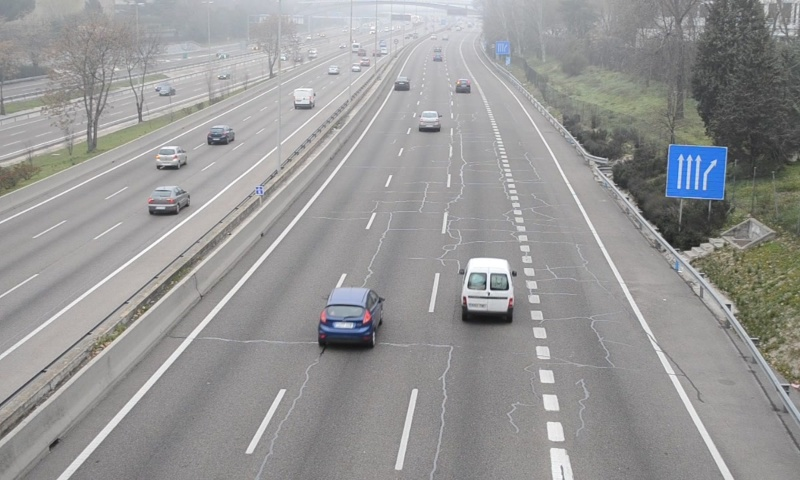car: (319, 287, 383, 342), (418, 110, 441, 132), (455, 78, 471, 93), (393, 75, 408, 91)
van: (462, 258, 513, 320)
